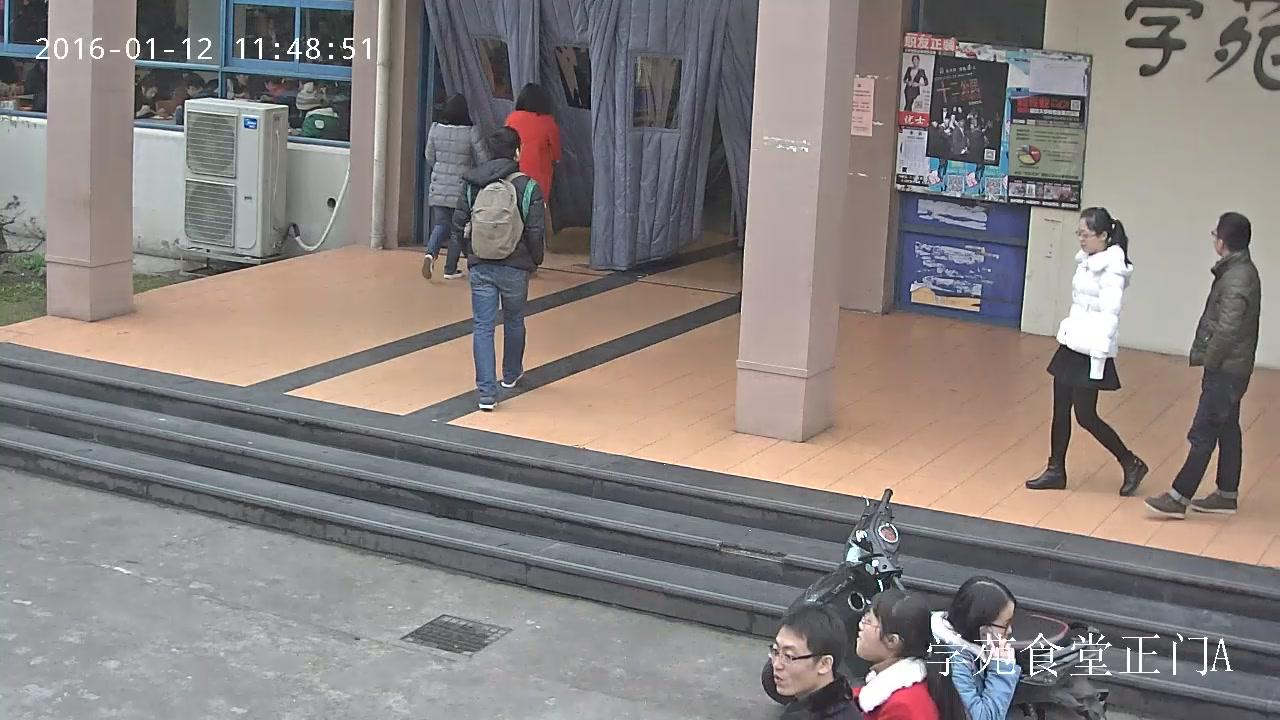person: (1144, 212, 1260, 518), (1026, 207, 1148, 496), (454, 126, 545, 409), (855, 589, 965, 720), (929, 576, 1021, 720), (421, 92, 492, 278), (502, 82, 560, 248), (296, 81, 346, 139), (902, 55, 928, 111)
